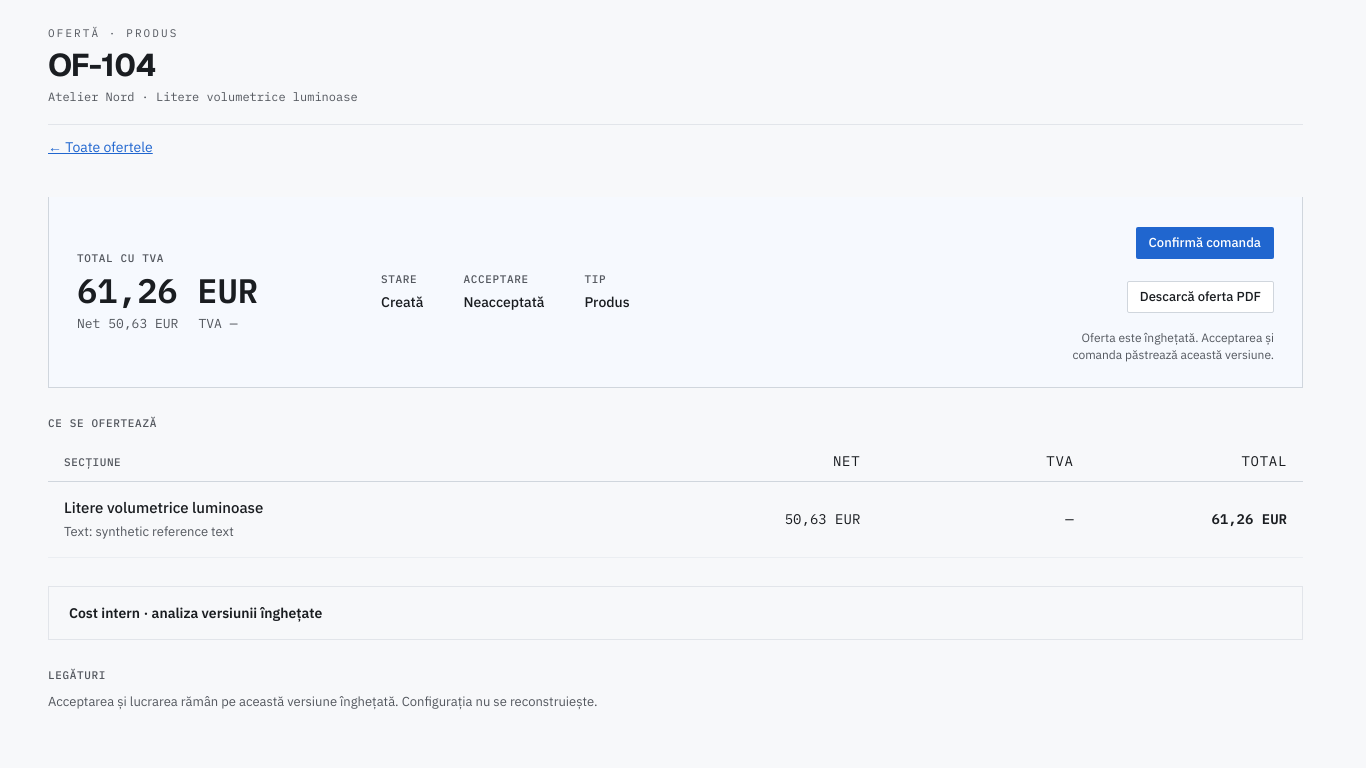
Test: QuoteSnapshotPage › shows quote identity before acceptance and does not post on cancel or escape
Expected: the element "Confirmi acceptarea" is not shown
Step 1. Click the button "Confirmă comanda" → (1205, 243), box [1136, 221, 1274, 265]
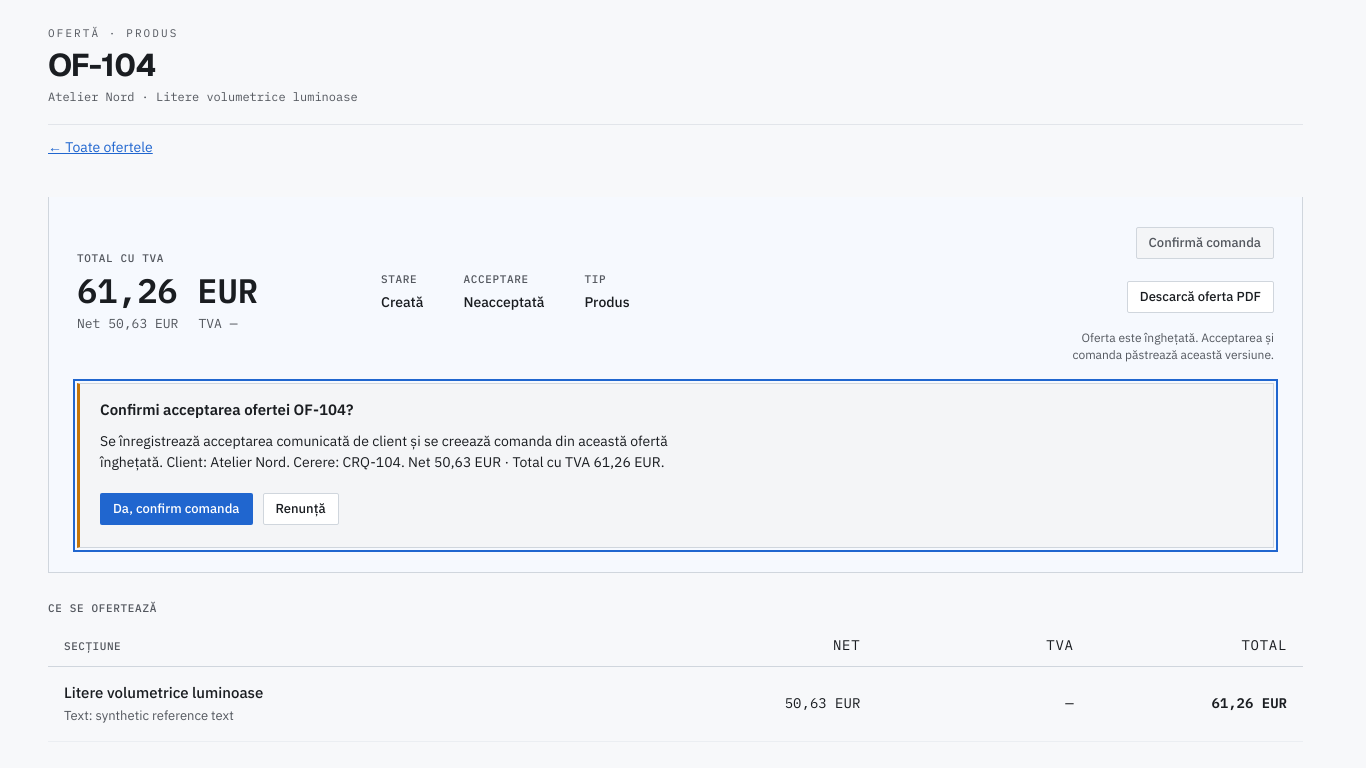
Expected: the text "acceptarea comunicată de client" is shown, [100, 432, 668, 471]
Expected: the text "Client: Atelier Nord" is shown, [163, 453, 290, 471]
Expected: the text "Cerere: CRQ-104" is shown, [290, 453, 405, 471]
Step 2. Press Escape
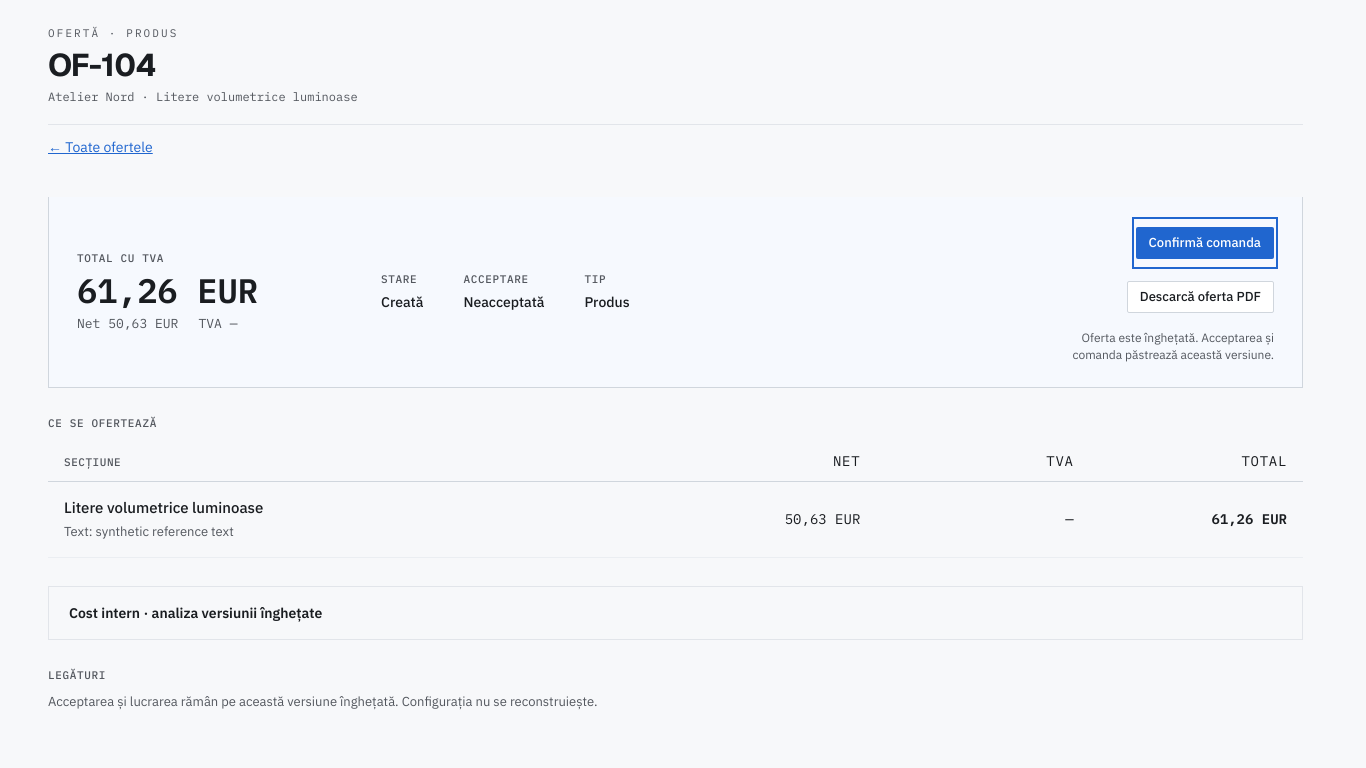
Expected: the text "Confirmi acceptarea" is gone
Step 3. Click the button "Confirmă comanda" → (1205, 243), box [1136, 221, 1274, 265]
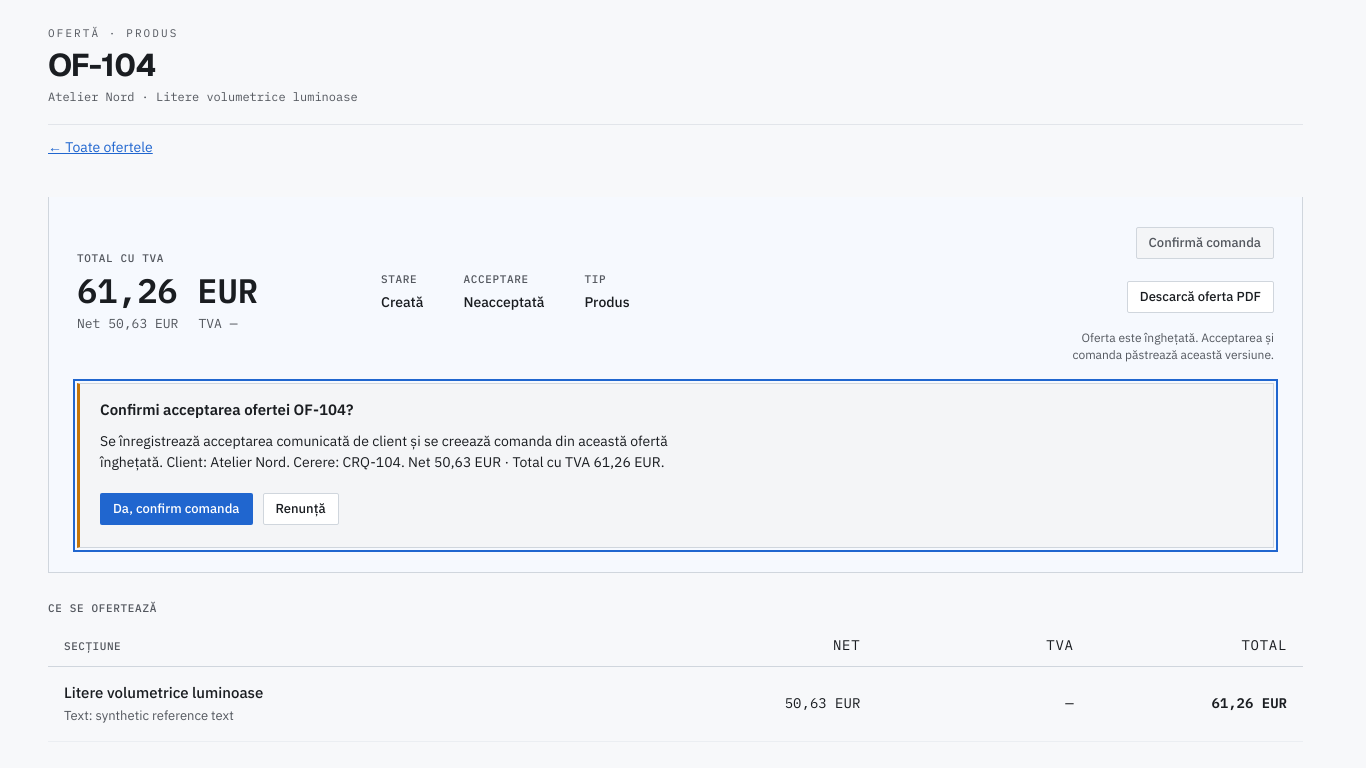
Step 4. Click the button "Renunță" → (300, 509), box [262, 487, 338, 531]
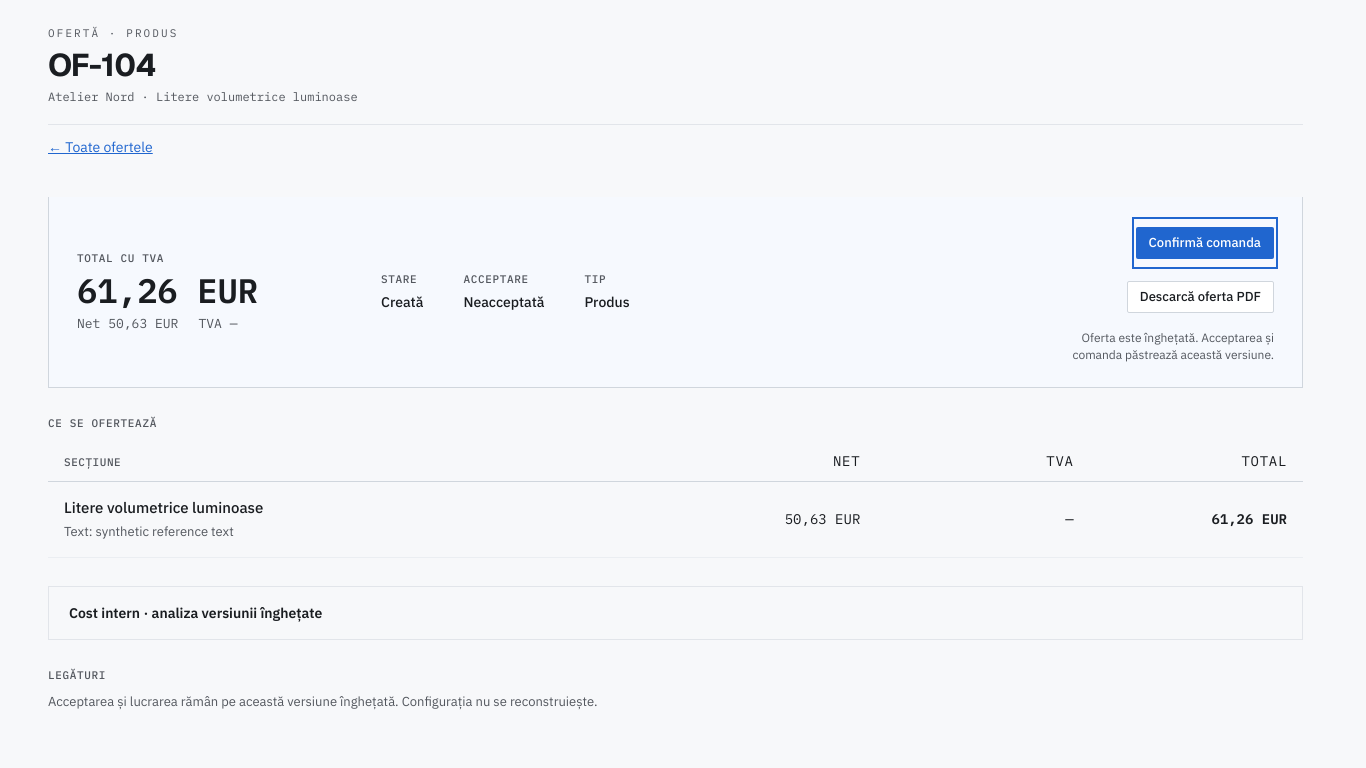
Expected: the text "Confirmi acceptarea" is gone
